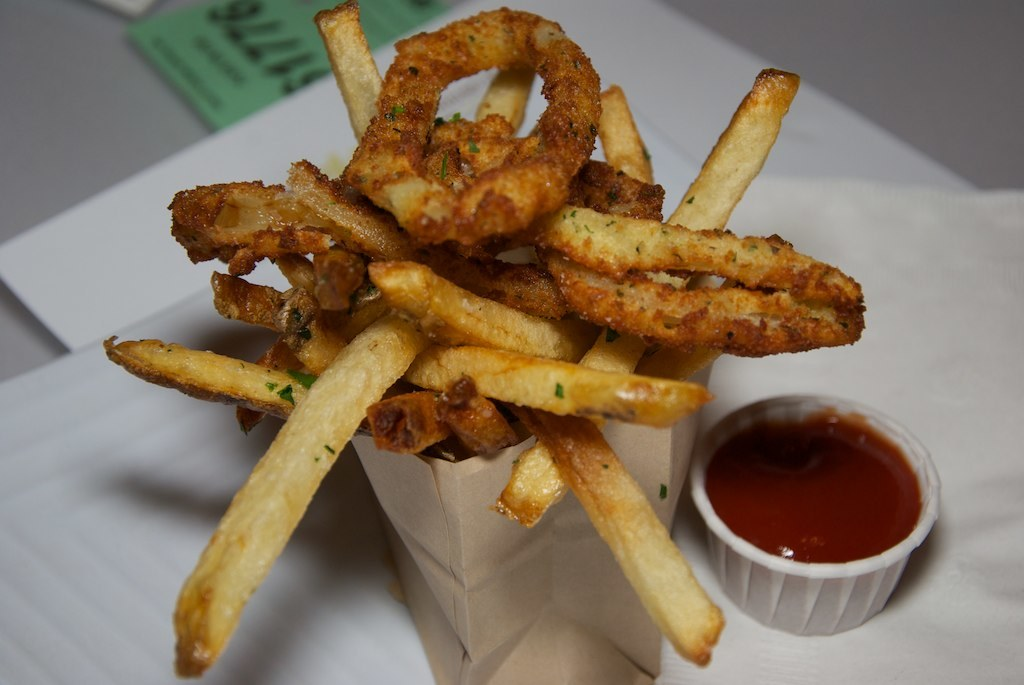French fries: (129, 65, 849, 649)
